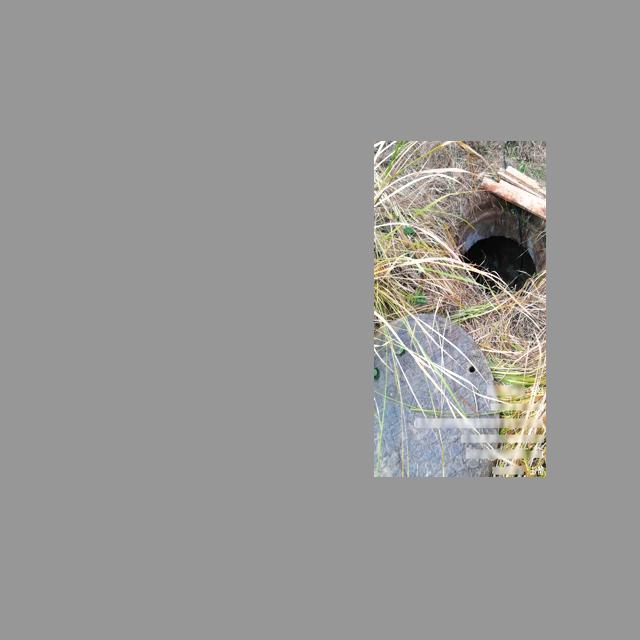uncovered: (445, 157, 545, 314)
